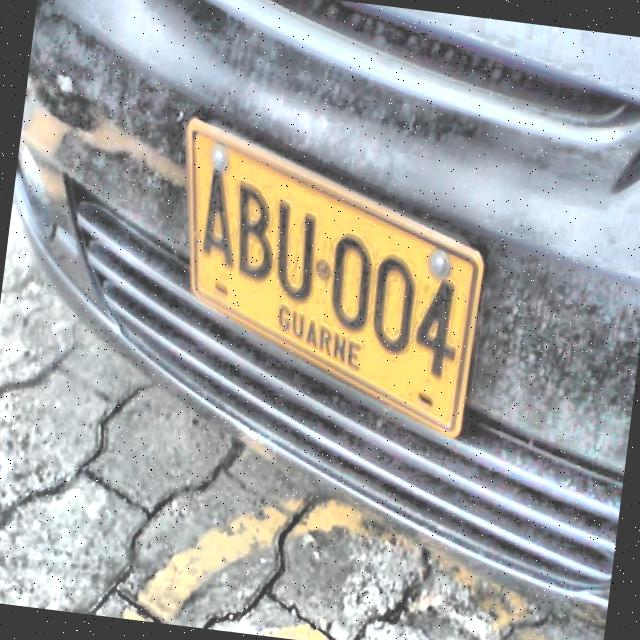0: (366, 243, 420, 364), (326, 225, 376, 343)
4: (407, 272, 466, 385)
A: (199, 161, 236, 273)
B: (236, 176, 276, 286)
U: (271, 194, 321, 310)
